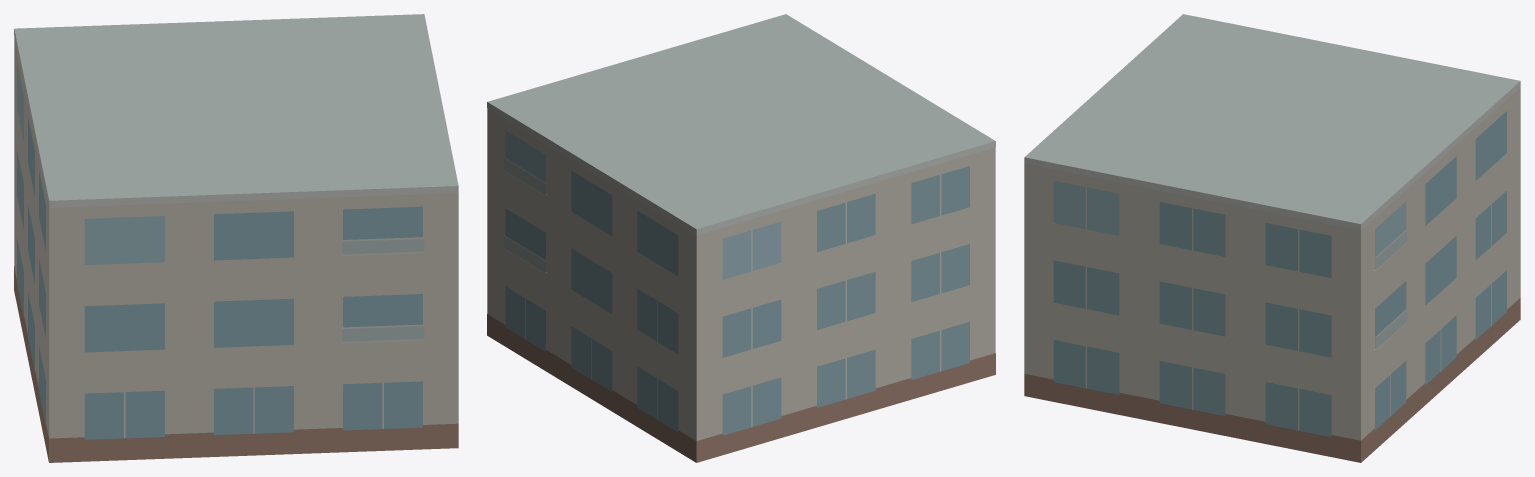
The model's file is survey-upis-32553101.glb.
3 renders of one model, left to right at view 1: azimuth 30°, elevation 25°; view 2: azimuth 150°, elevation 25°; view 3: azimuth 270°, elevation 25°, orthographic. The views are drawn at different scales.
Parts seen in each view (by area): view 1: survey-upis-32553101.tmp; view 2: survey-upis-32553101.tmp; view 3: survey-upis-32553101.tmp.
Boxes of the visible parts, box(x1,y1,x2,y2) form: survey-upis-32553101.tmp: box(14, 14, 458, 462); survey-upis-32553101.tmp: box(487, 14, 995, 462); survey-upis-32553101.tmp: box(1024, 14, 1520, 462).
Bounding box in the file's own units: 17.29 × 9.15 × 17.25.
